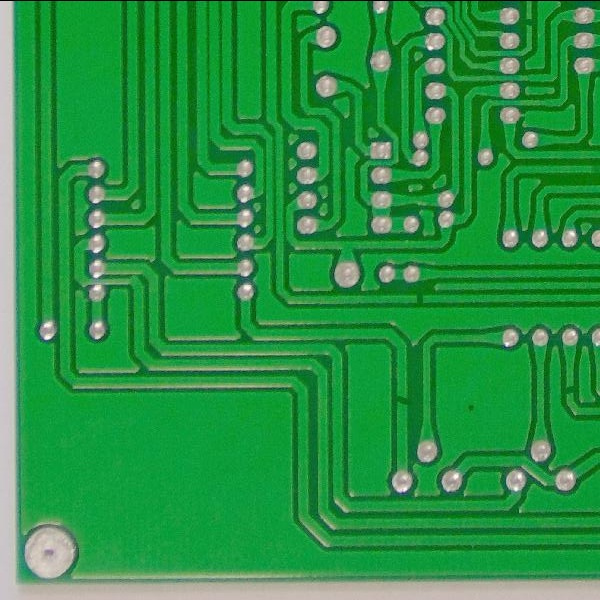open_circuit: (393, 392, 411, 410), (563, 380, 579, 398), (412, 291, 429, 306), (523, 15, 536, 30)
